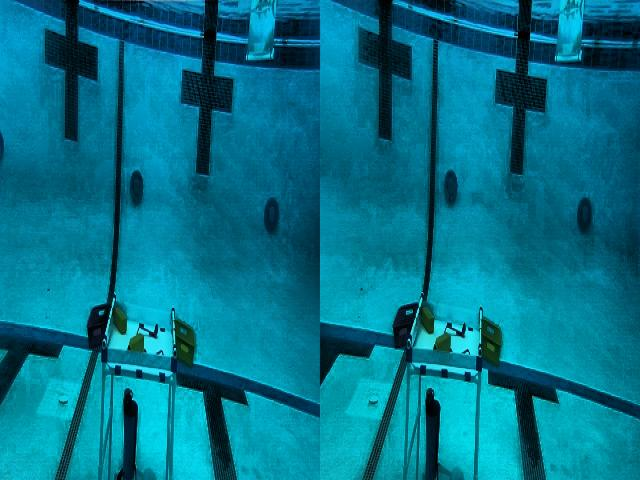octagon_table: (390, 280, 503, 480), (84, 280, 195, 480)
sawfish: (246, 0, 278, 55), (557, 0, 583, 56)
